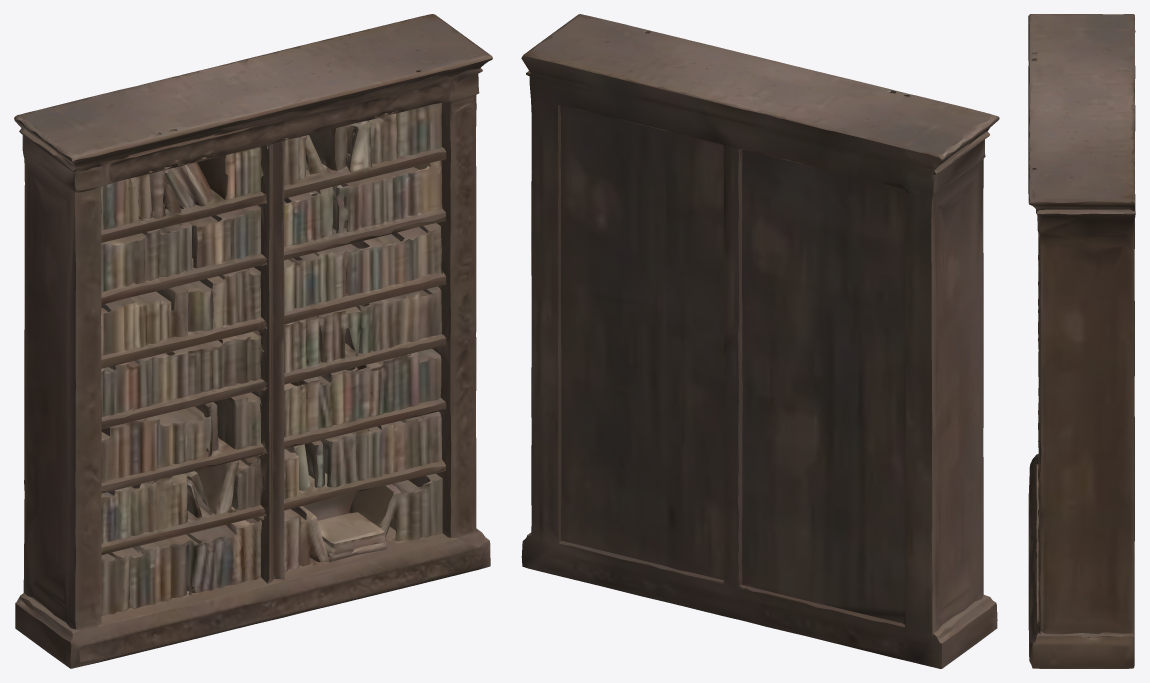
The model's file is lantern-bookshelf.glb.
The picture shows the model from 3 angles, left to right: view 1: azimuth 30°, elevation 25°; view 2: azimuth 150°, elevation 25°; view 3: azimuth 270°, elevation 25°; orthographic projection. The views are drawn at different scales.
Visible parts, largest first — view 1: geometry_0; view 2: geometry_0; view 3: geometry_0.
Part boxes in pixels (x1,y1,x2,y2): geometry_0: (14,14,492,668); geometry_0: (521,14,999,668); geometry_0: (1028,14,1135,668).
Bounding box in the file's own units: 2.06 × 2.4 × 0.4986.
Materials: 1 (1 with a texture image).
